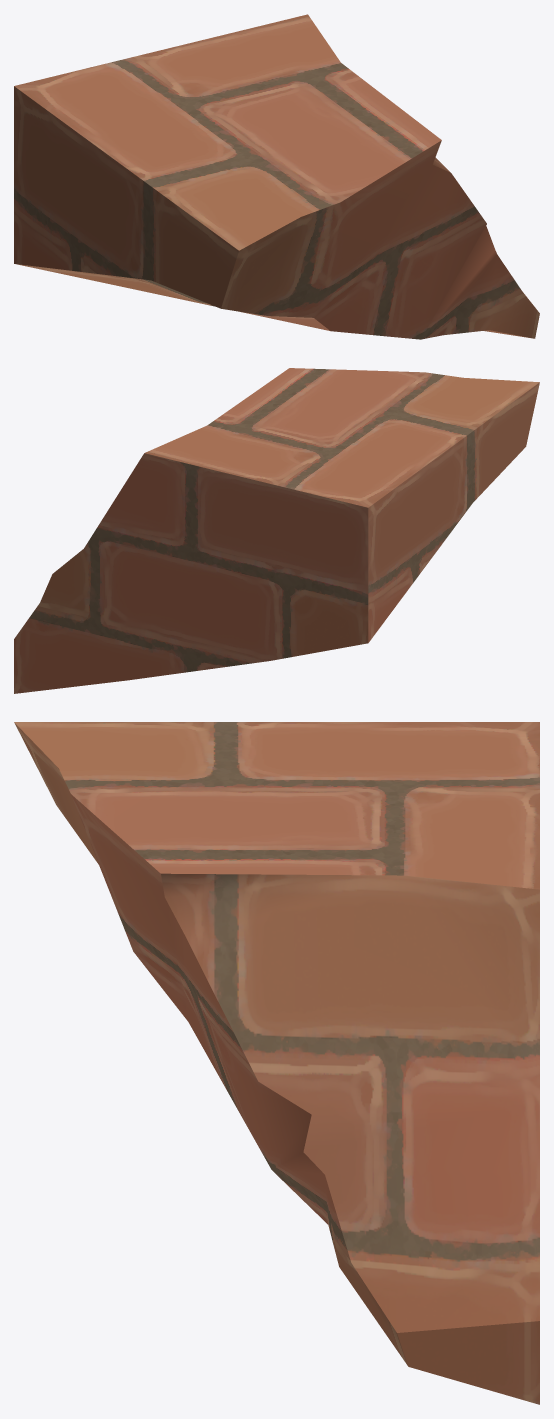
The model's file is gib3.fbx.
The picture shows the model from 3 angles, top to bottom: view 1: azimuth 30°, elevation 25°; view 2: azimuth 150°, elevation 25°; view 3: azimuth 270°, elevation 25°; orthographic projection. The views are drawn at different scales.
Parts seen in each view (by area): view 1: gib3; view 2: gib3; view 3: gib3.
Boxes of the visible parts, x1,y1,x2,y2 form: gib3: [14, 14, 539, 339]; gib3: [14, 368, 539, 693]; gib3: [14, 722, 539, 1404].
Bounding box in the file's own units: 32 × 23.52 × 26.84.
Materials: 1 (1 with a texture image).
